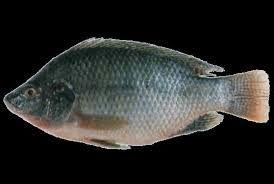Tilapia: (4, 36, 270, 148)
